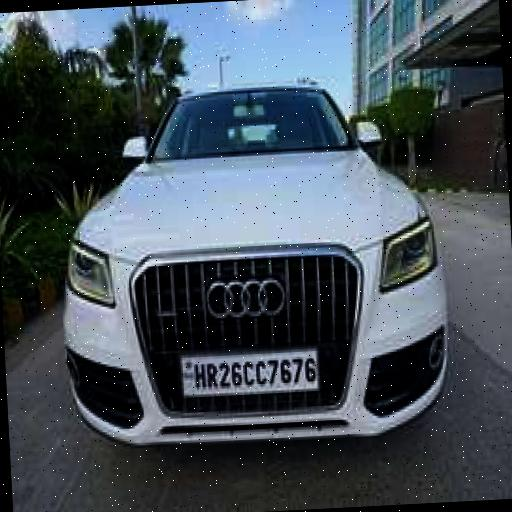license_plate`: (178, 346, 316, 393)
